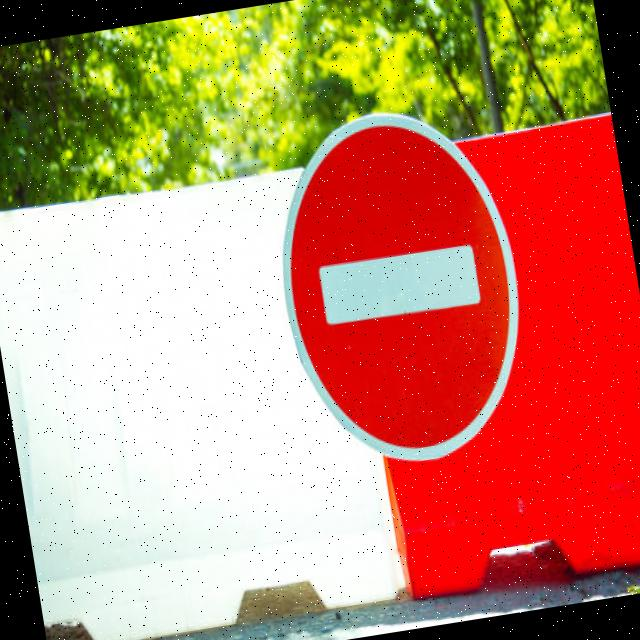do_not_enter: (258, 86, 546, 483)
